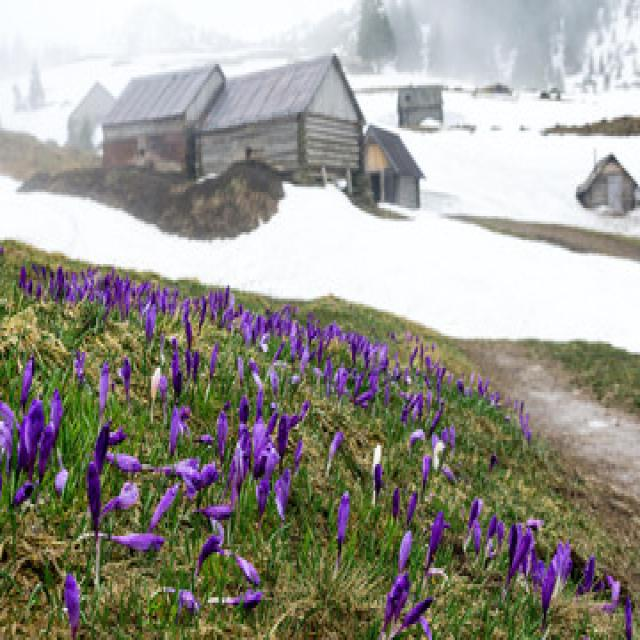saffron closed: (335, 491, 350, 571), (64, 574, 80, 638), (399, 531, 412, 574)
